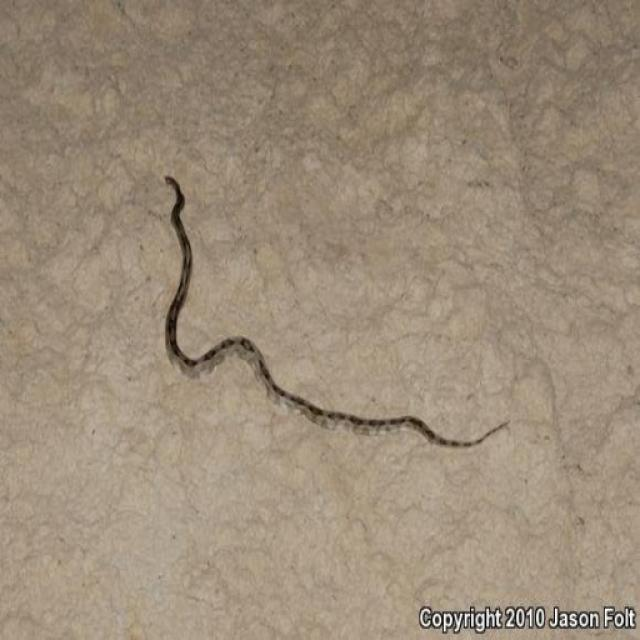snake: (150, 165, 516, 458)
